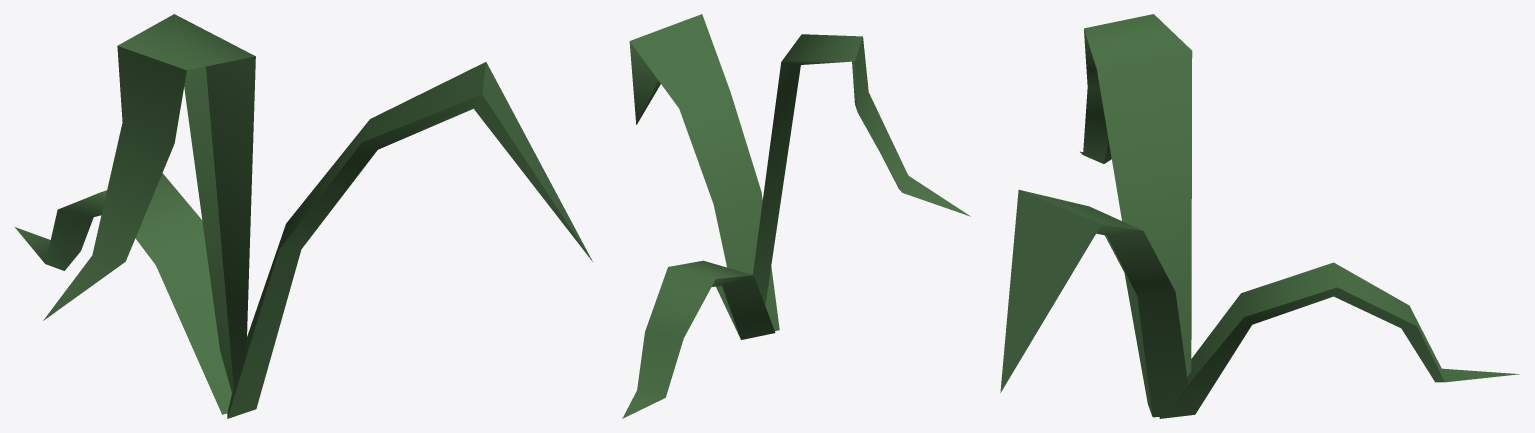
File: Grass_3.fbx
The picture shows the model from 3 angles, left to right: view 1: azimuth 30°, elevation 25°; view 2: azimuth 150°, elevation 25°; view 3: azimuth 270°, elevation 25°; orthographic projection. The views are drawn at different scales.
Visible parts, largest first — view 1: Grass_3; view 2: Grass_3; view 3: Grass_3.
Part boxes in pixels (box(x1,y1,x2,y2)): Grass_3: box(15, 14, 592, 418); Grass_3: box(622, 14, 970, 418); Grass_3: box(1000, 14, 1519, 418).
Bounding box in the file's own units: 22.75 × 17.06 × 23.34.
